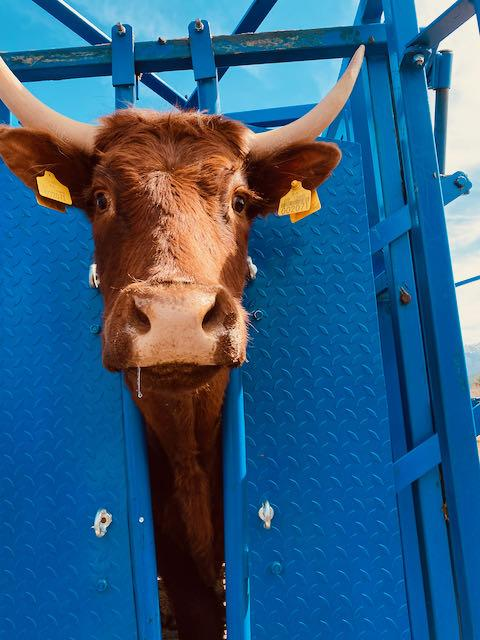muzzles: (94, 282, 258, 382)
